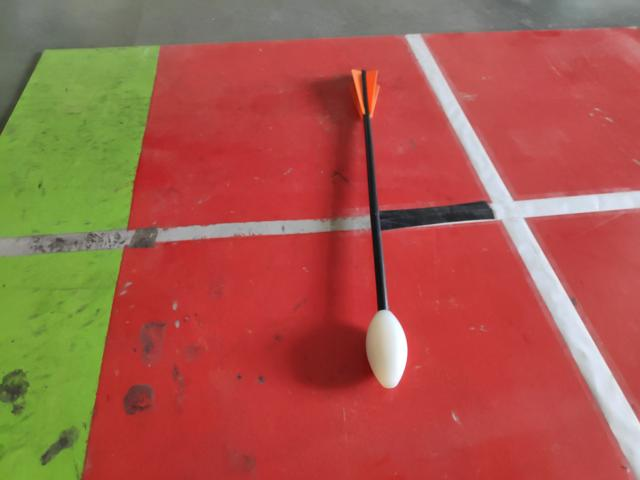Head: (361, 308, 412, 392)
Tail: (345, 61, 383, 120)
